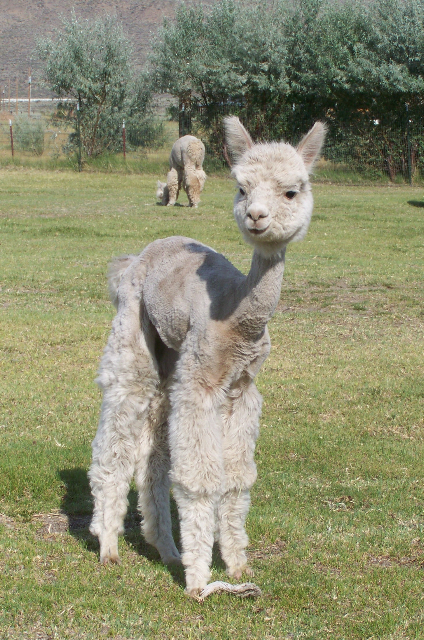alpaca: (87, 113, 326, 602), (155, 133, 207, 208)
